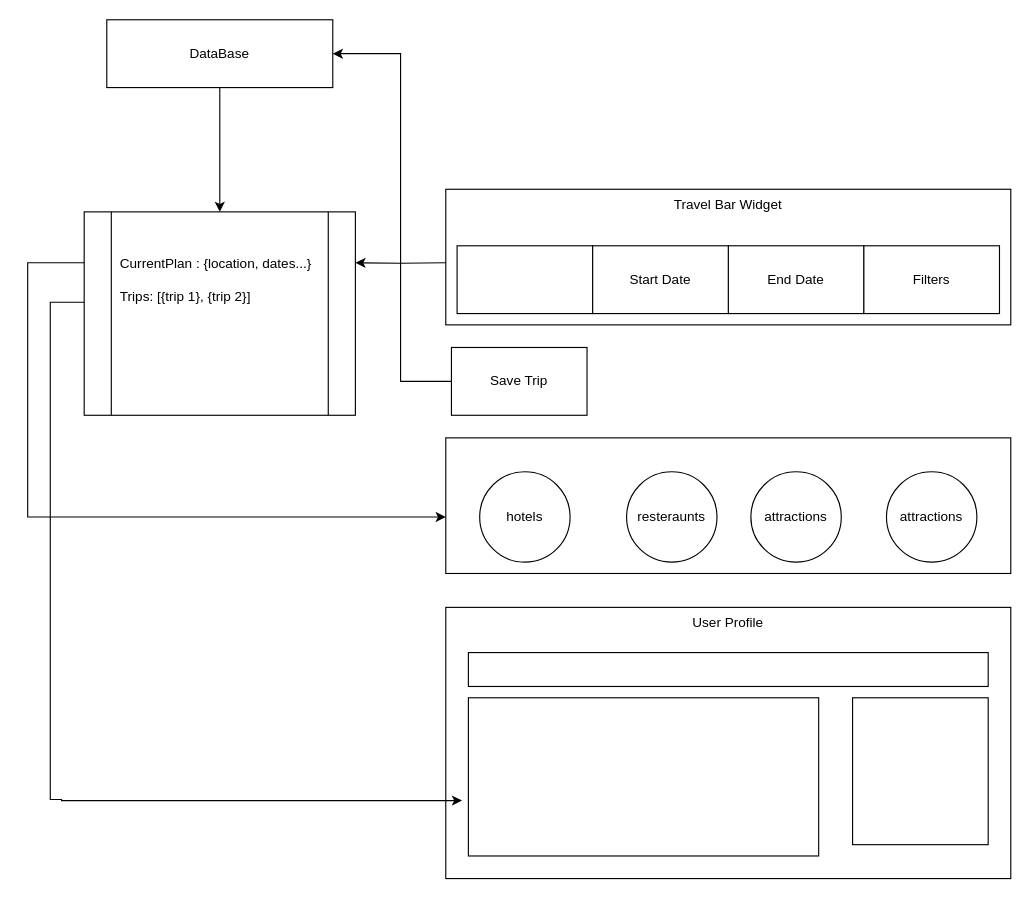
The diagram is 1031 pixels wide and 898 high, and some of its shapes have lost their labels. Here are the shapes that lost their labels. From the top down, the box of each, then its label:
(456, 245, 593, 314): Location
(83, 211, 355, 415): Global State
(445, 437, 1011, 573): Attractions Widget
(467, 651, 988, 686): Travel Bar
(467, 697, 819, 856): Calendar
(851, 697, 988, 845): Favorites Upcoming Padt trips
